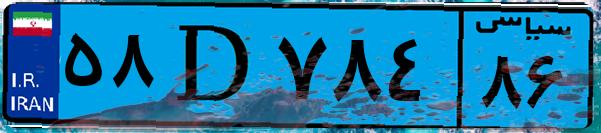4: (385, 28, 445, 110)
5: (57, 26, 110, 100)
6: (525, 38, 570, 115)
7: (270, 28, 330, 110)
8: (330, 28, 385, 110), (475, 38, 525, 113), (110, 28, 158, 98)
D: (158, 12, 270, 120)
